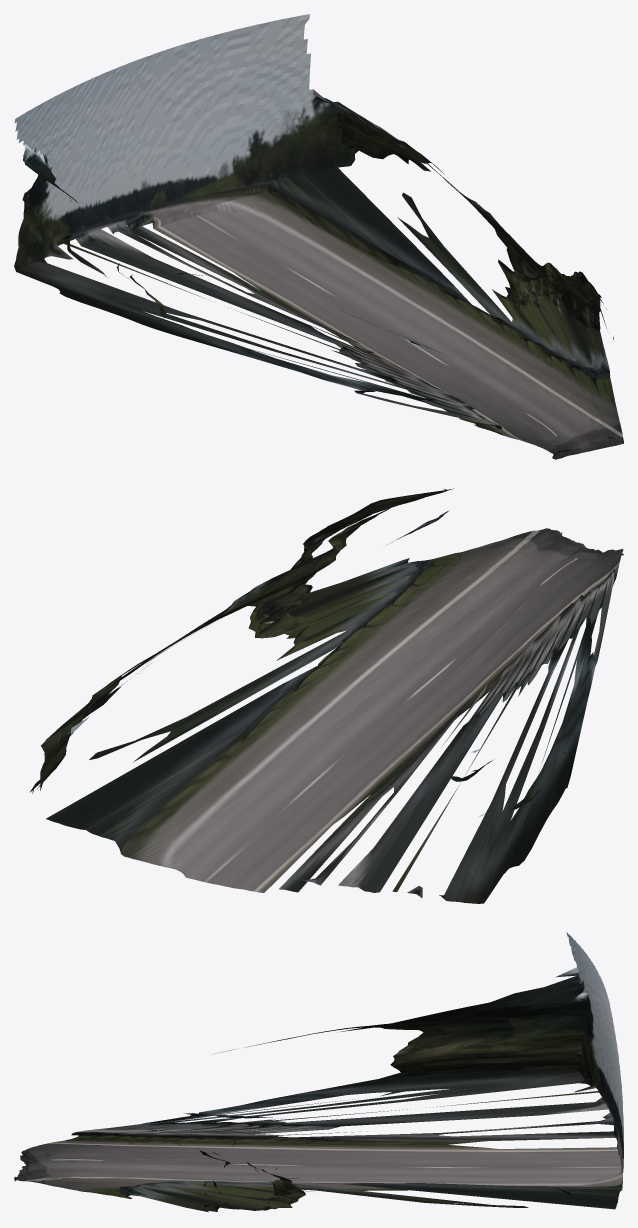
3 views of the same model, one above another, from view 1: azimuth 30°, elevation 25°; view 2: azimuth 150°, elevation 25°; view 3: azimuth 270°, elevation 25° (orthographic). The views are drawn at different scales.
Visible parts, largest first — view 1: defaultobject; view 2: defaultobject; view 3: defaultobject.
Part boxes in pixels (x1=…): defaultobject: x1=14, y1=14, x2=623, y2=459; defaultobject: x1=30, y1=488, x2=623, y2=903; defaultobject: x1=14, y1=932, x2=623, y2=1212.
Size of the model in its own units: 27.44 by 12.47 by 44.72.
Materials: 1 (1 with a texture image).
